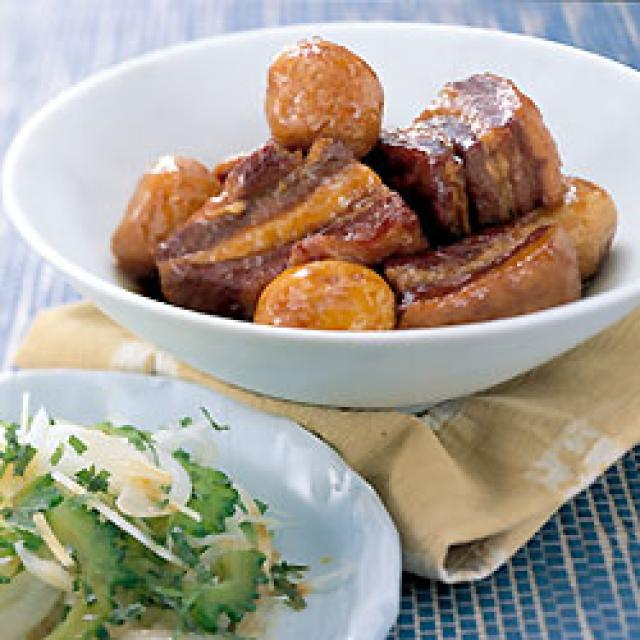猪肉菜式: (0, 18, 640, 351)
